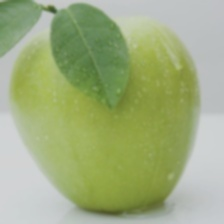apple: (49, 58, 189, 198)
